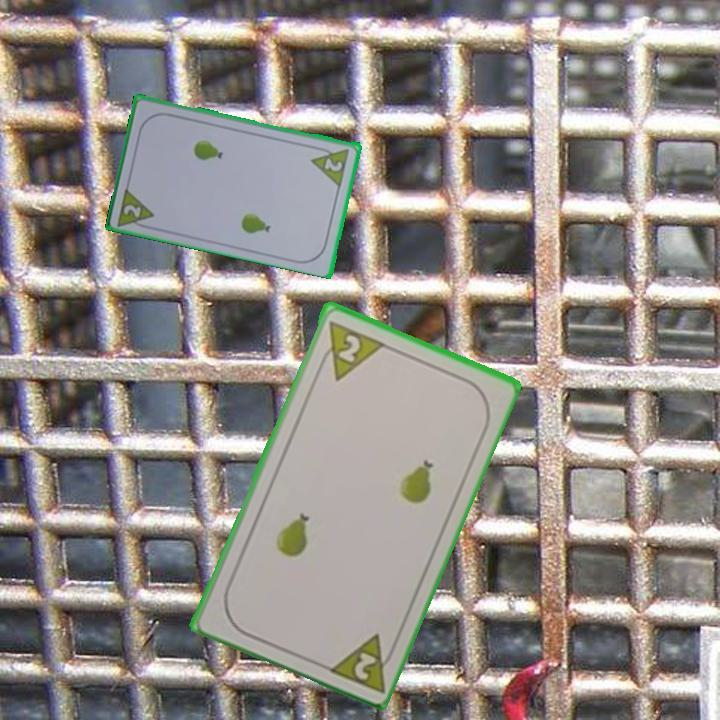2p: (322, 628, 398, 695), (313, 316, 386, 383), (114, 183, 158, 232), (321, 154, 346, 174)
